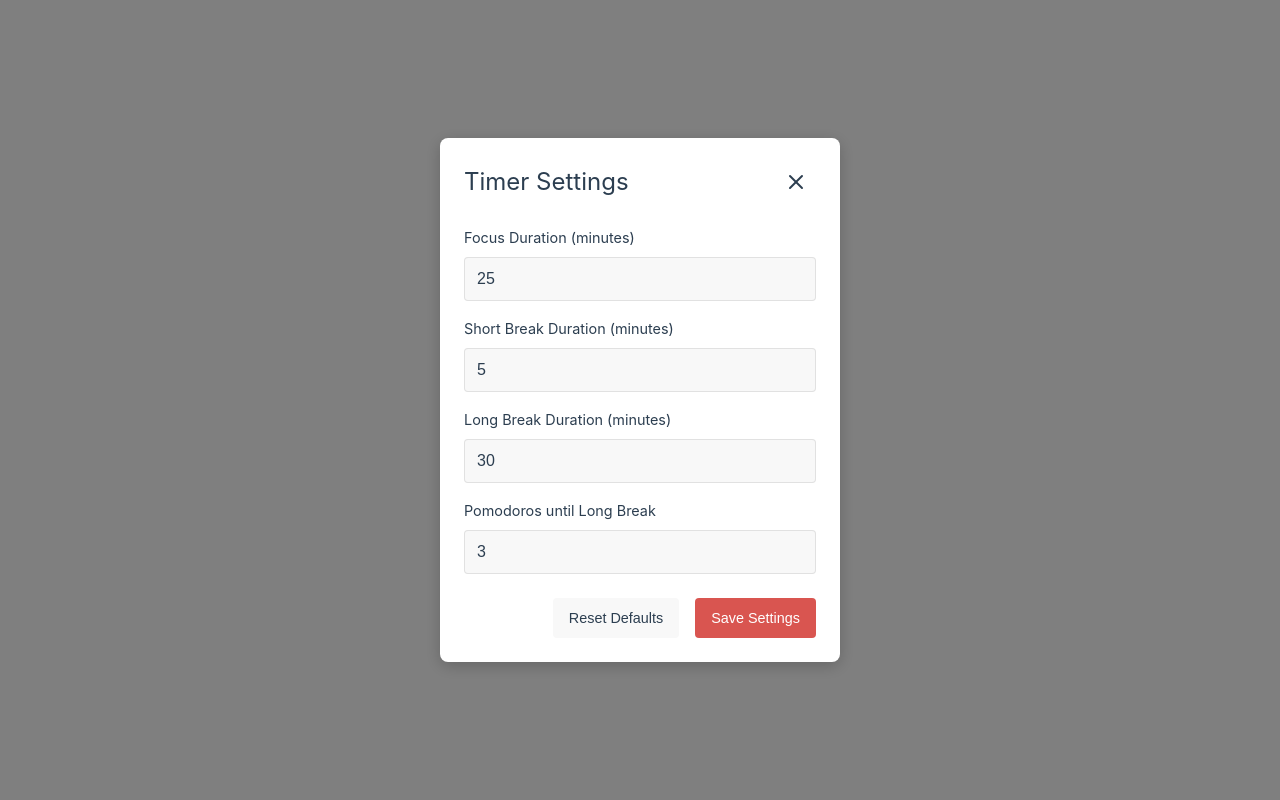
Test case: TimerSettings.vue › resets values to defaults when reset button is clicked
Change values first
Replace the text in the number field with id "focus" with "30" at {"x": 640, "y": 279}, box [464, 257, 816, 301]
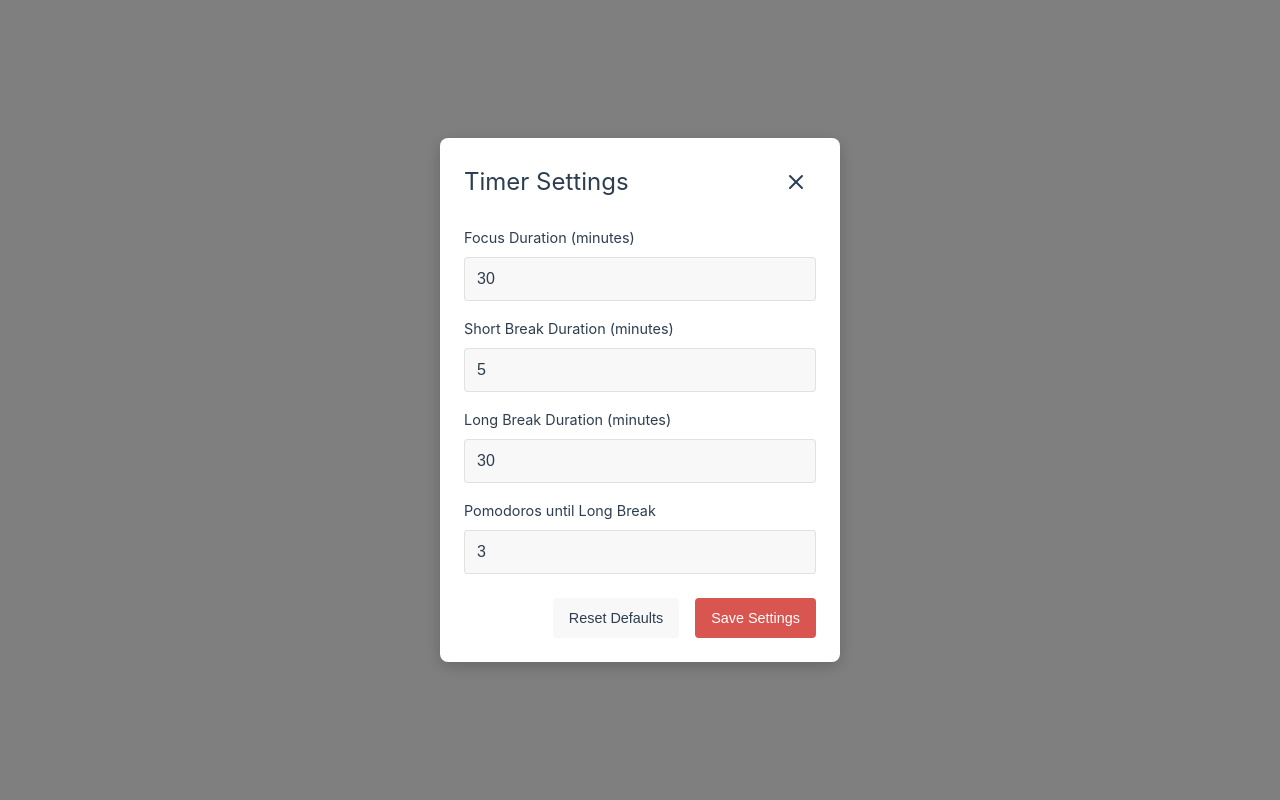
Replace the text in the number field with id "shortBreak" with "7" at {"x": 640, "y": 370}, box [464, 348, 816, 392]
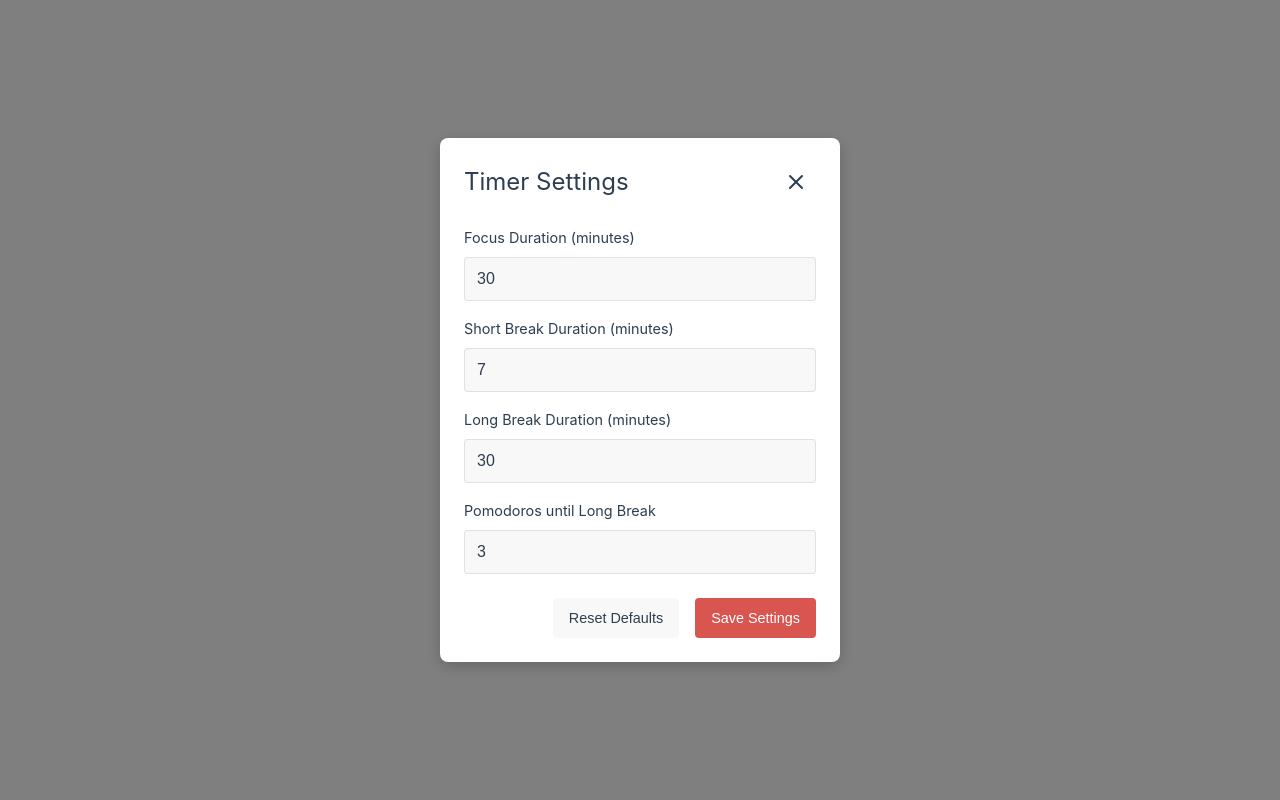
Replace the text in the number field with id "longBreak" with "35" at {"x": 640, "y": 461}, box [464, 439, 816, 483]
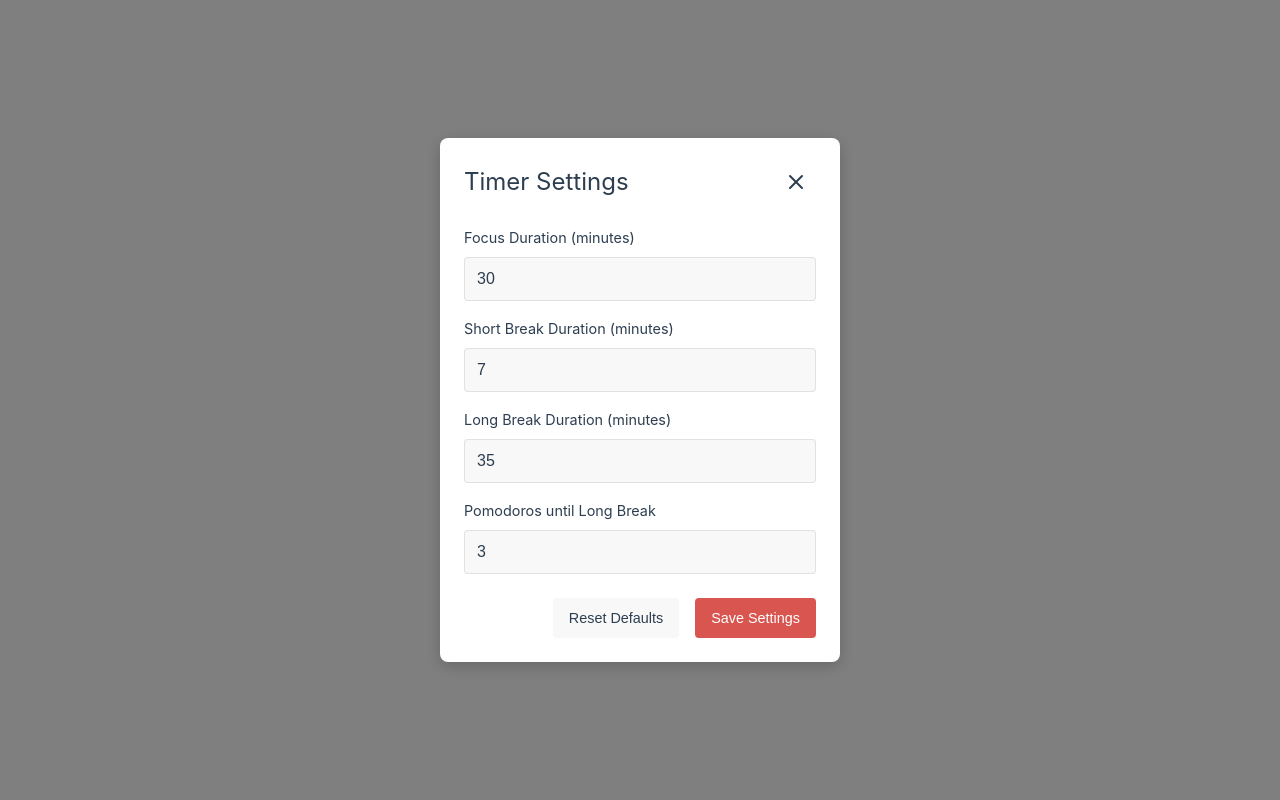
Replace the text in the number field labelled "Pomodoros until Long Break" with "4" at {"x": 640, "y": 552}, box [464, 530, 816, 574]
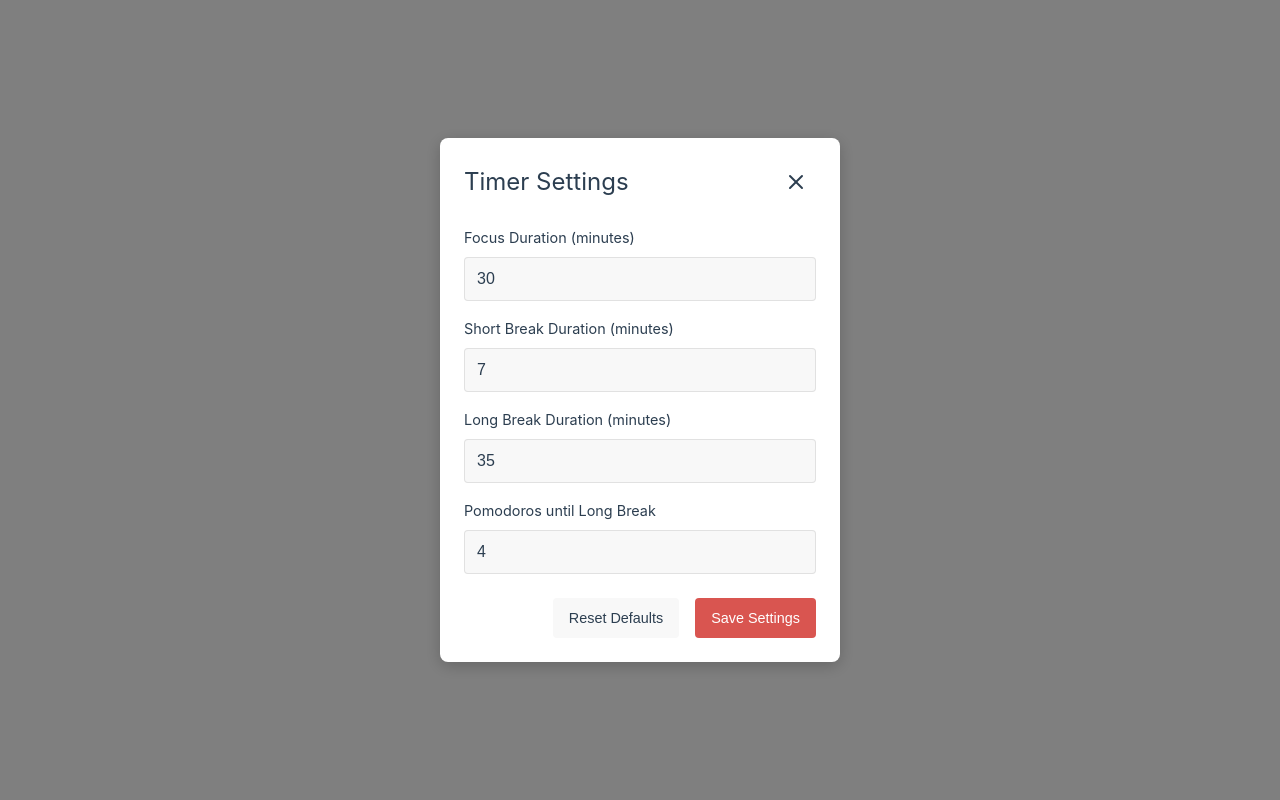
Click reset button
Click the button with class "reset-button".
click(616, 618)  # box [553, 598, 679, 638]
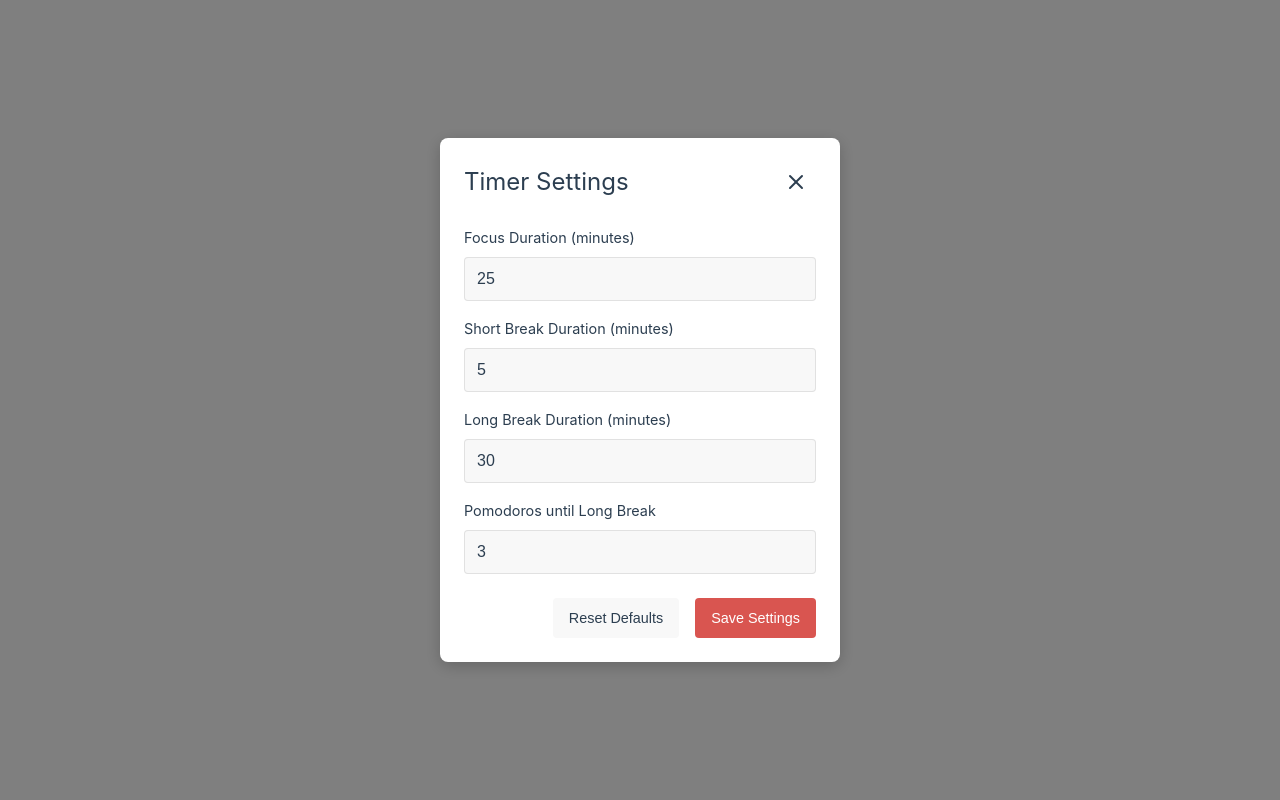
Check: the number field with id "focus" holds "25", box [464, 257, 816, 301]
Check: the number field with id "shortBreak" holds "5", box [464, 348, 816, 392]
Check: the number field with id "longBreak" holds "30", box [464, 439, 816, 483]
